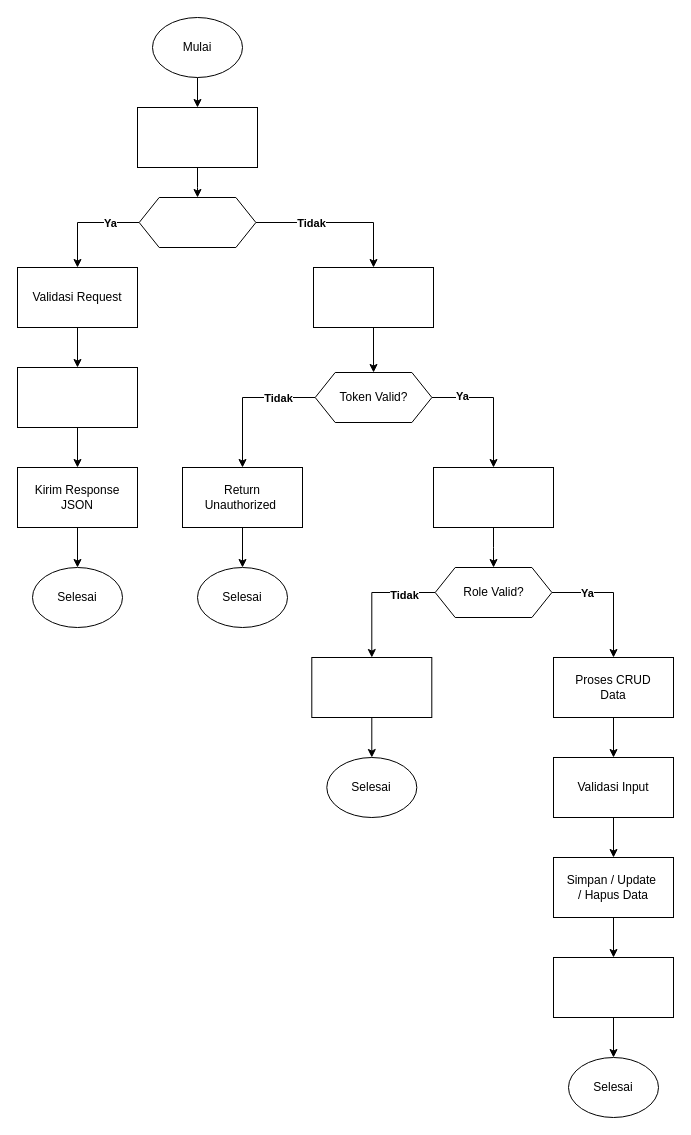
Image size: 691x1135. Some labels were removed from this diagram. The shapes that lost their labels are listed below. From the top down, each one's centre as x and y in pixels, then its label:
(197,137): Request Masuk dari Frontend
(197,222): Endpoint Publik?
(373,297): Cek Token / Session
(77,397): Ambil Data dari Database
(493,497): Cek Role Admin
(371,687): Return Forbidden
(613,987): Return Response Sukses
